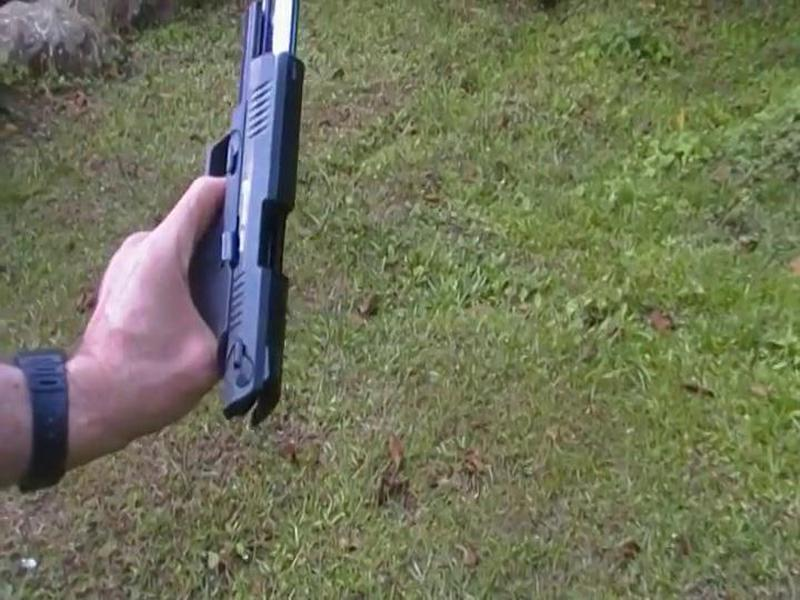Pistola: (150, 45, 342, 419)
